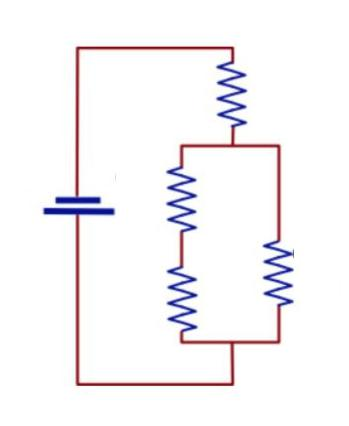resistor: (153, 147, 218, 247), (152, 243, 220, 335), (208, 51, 260, 141), (254, 225, 296, 323)
